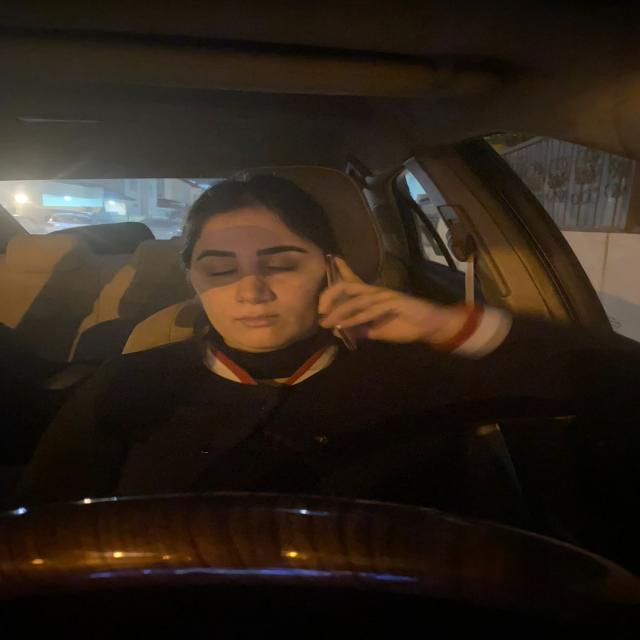mobile: (318, 256, 378, 353)
person: (179, 181, 351, 365)
